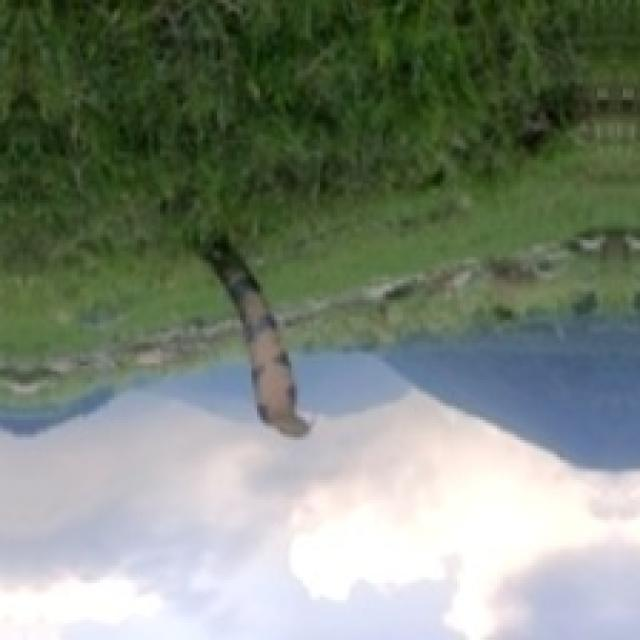king cobra: (383, 320, 637, 466), (200, 240, 306, 434), (206, 246, 294, 420)
